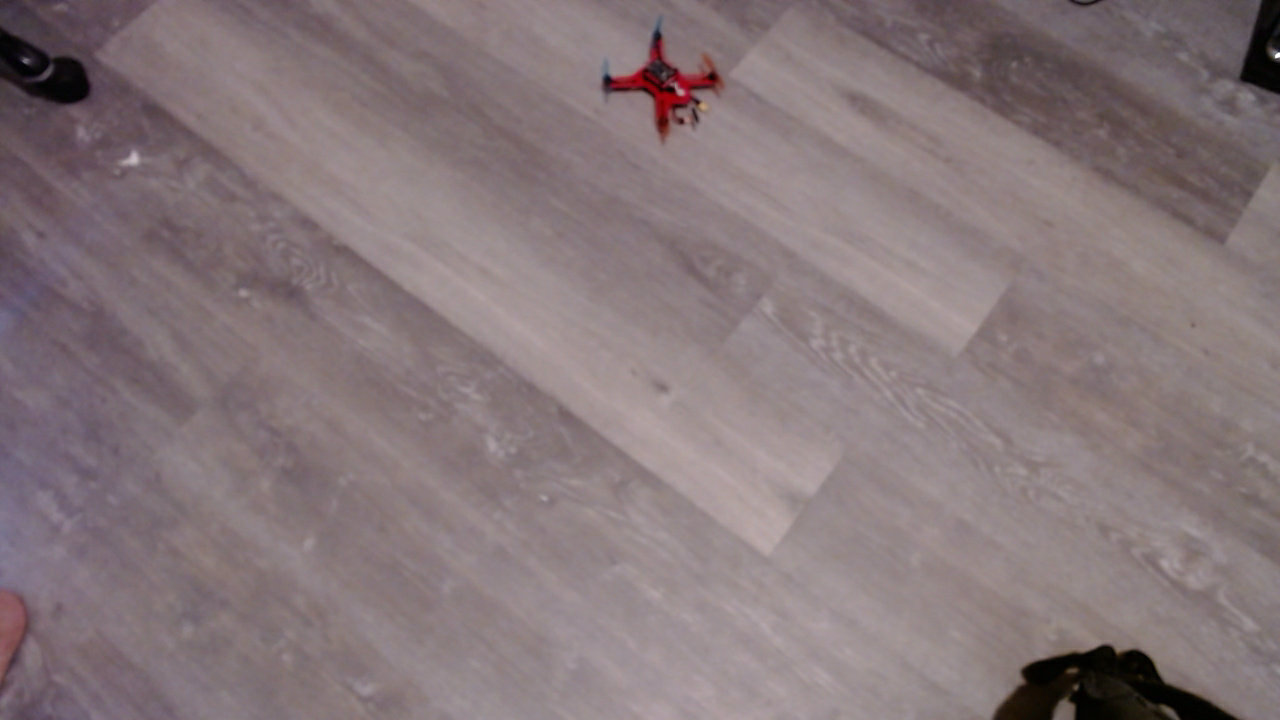crazyflie: (597, 15, 744, 145)
